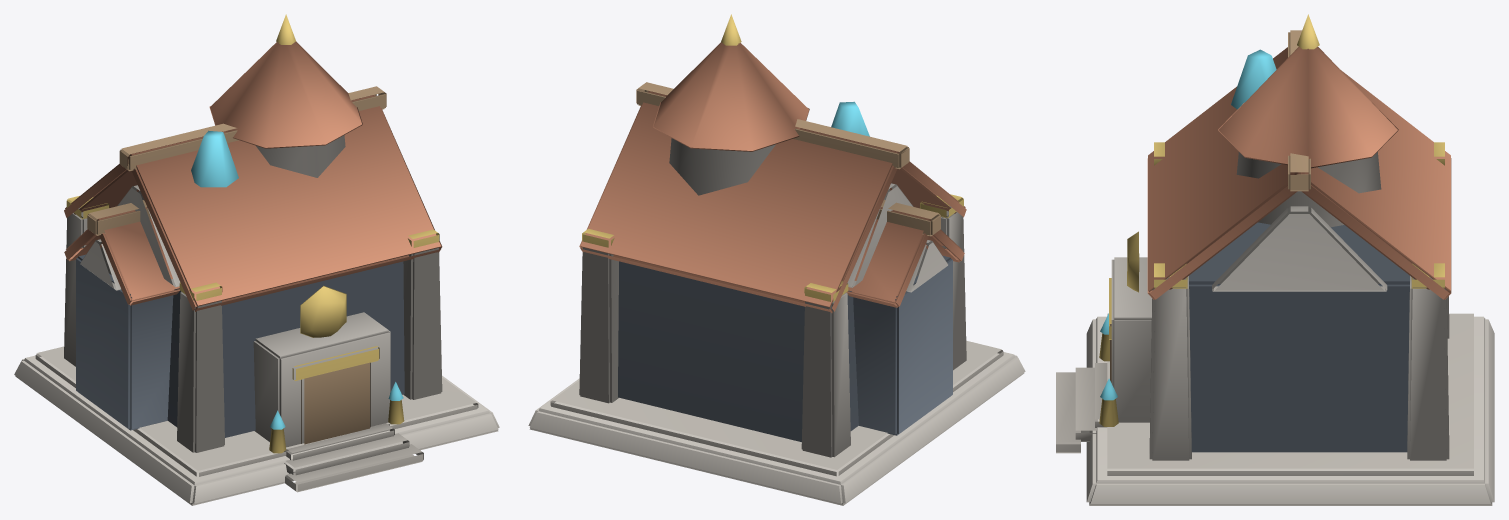
The model's file is core_archive_townhall_lv3_lod1.glb.
3 renders of one model, left to right at view 1: azimuth 30°, elevation 25°; view 2: azimuth 150°, elevation 25°; view 3: azimuth 270°, elevation 25°, orthographic. The views are drawn at different scales.
Visible parts, largest first — view 1: core_archive_townhall_lv3.001; view 2: core_archive_townhall_lv3.001; view 3: core_archive_townhall_lv3.001.
Boxes of the visible parts, bbox=[...] form: core_archive_townhall_lv3.001: bbox=[14, 14, 499, 505]; core_archive_townhall_lv3.001: bbox=[528, 14, 1025, 505]; core_archive_townhall_lv3.001: bbox=[1056, 14, 1494, 505].
Bounding box in the file's own units: 4.71 × 5.35 × 4.99.
